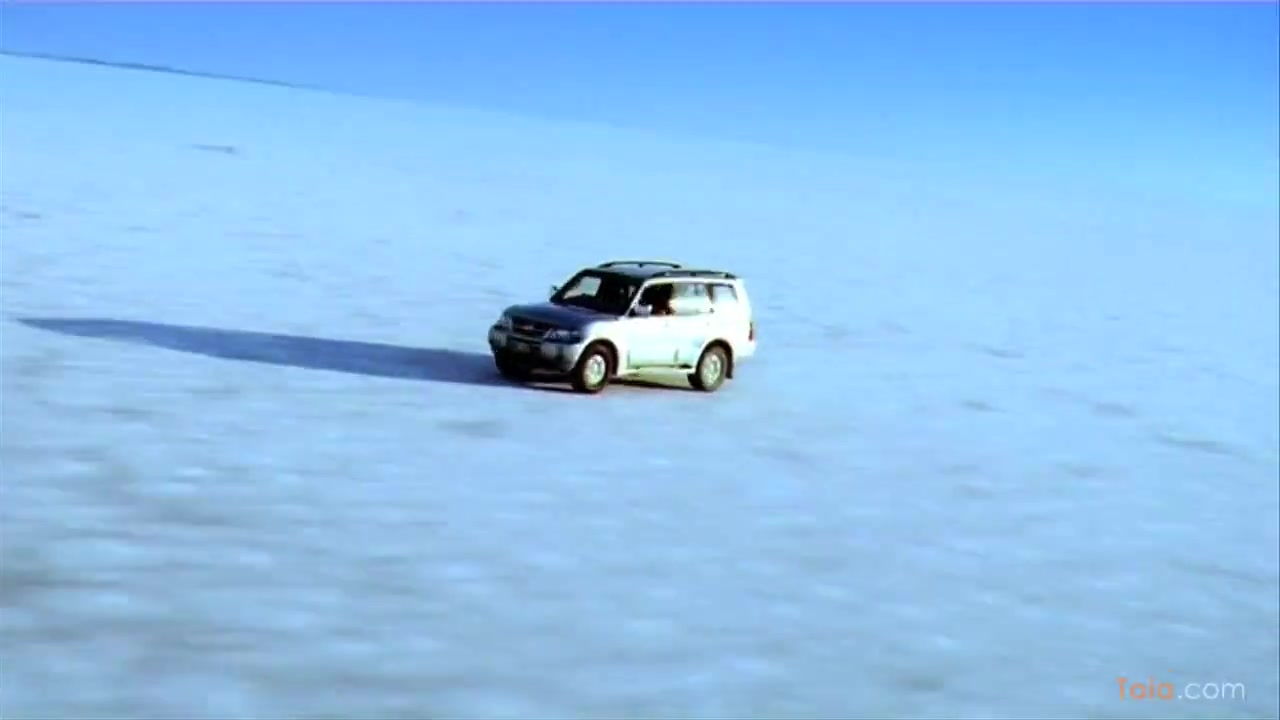car: (483, 264, 761, 397)
